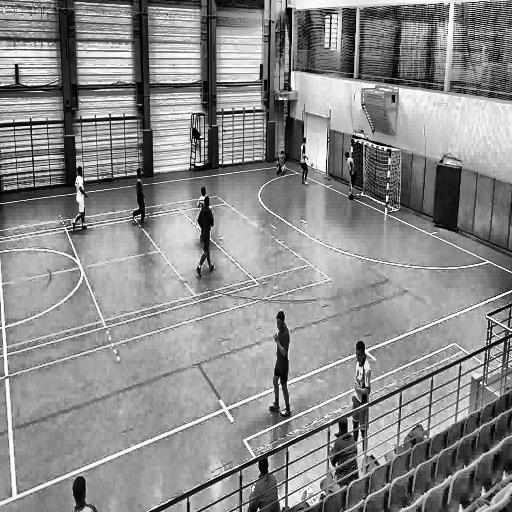ball: (310, 160, 314, 170)
player: (350, 340, 372, 472), (268, 309, 292, 419), (197, 198, 215, 282), (72, 165, 90, 233), (130, 168, 148, 227), (195, 184, 209, 244), (344, 151, 356, 206), (299, 136, 310, 190), (275, 146, 290, 182)
